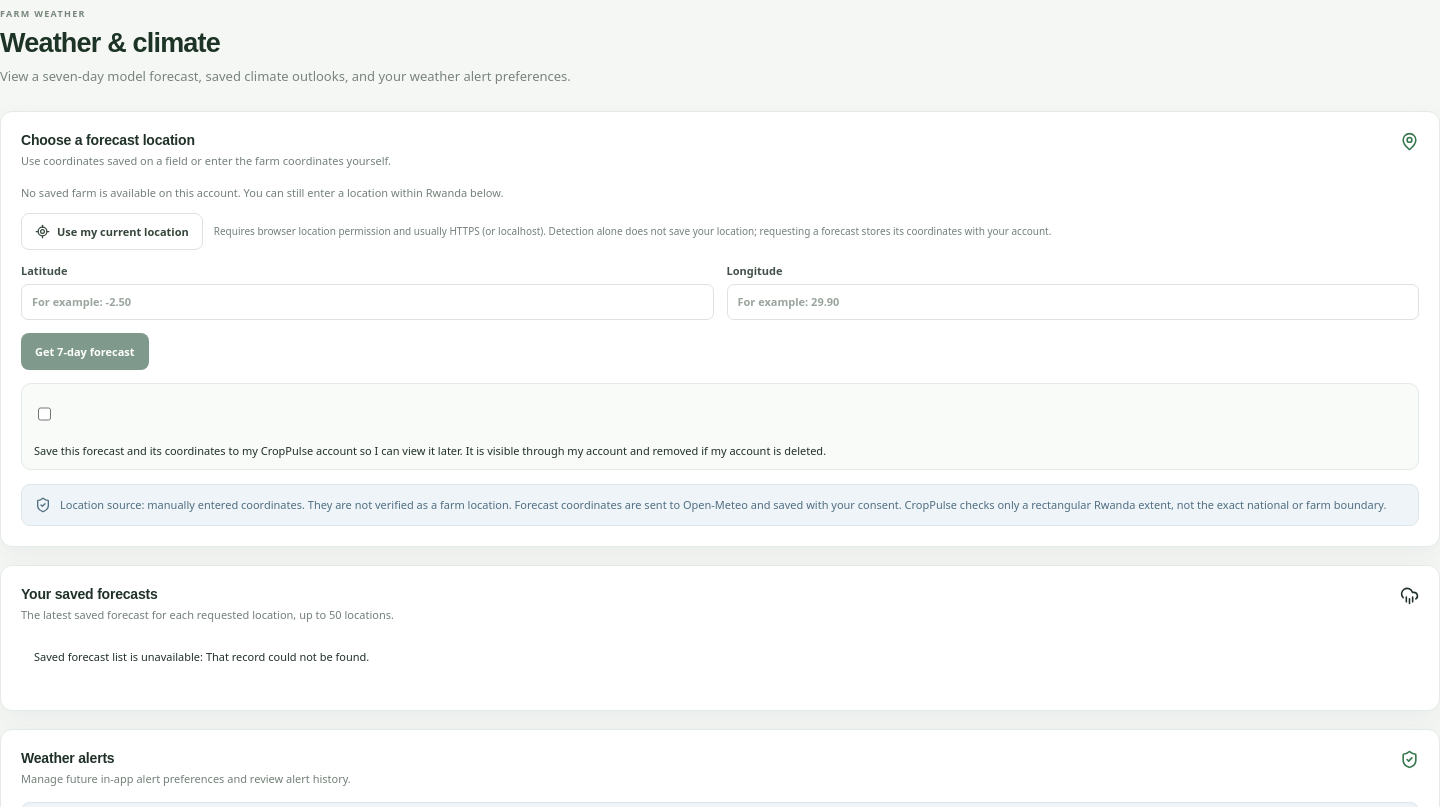
WeatherPage device location › shows a useful message when the user denies location permission
The width and height of the screenshot is (1440, 807).
Click the button "Use my current location": x=112, y=231 21,213 -> 203,250
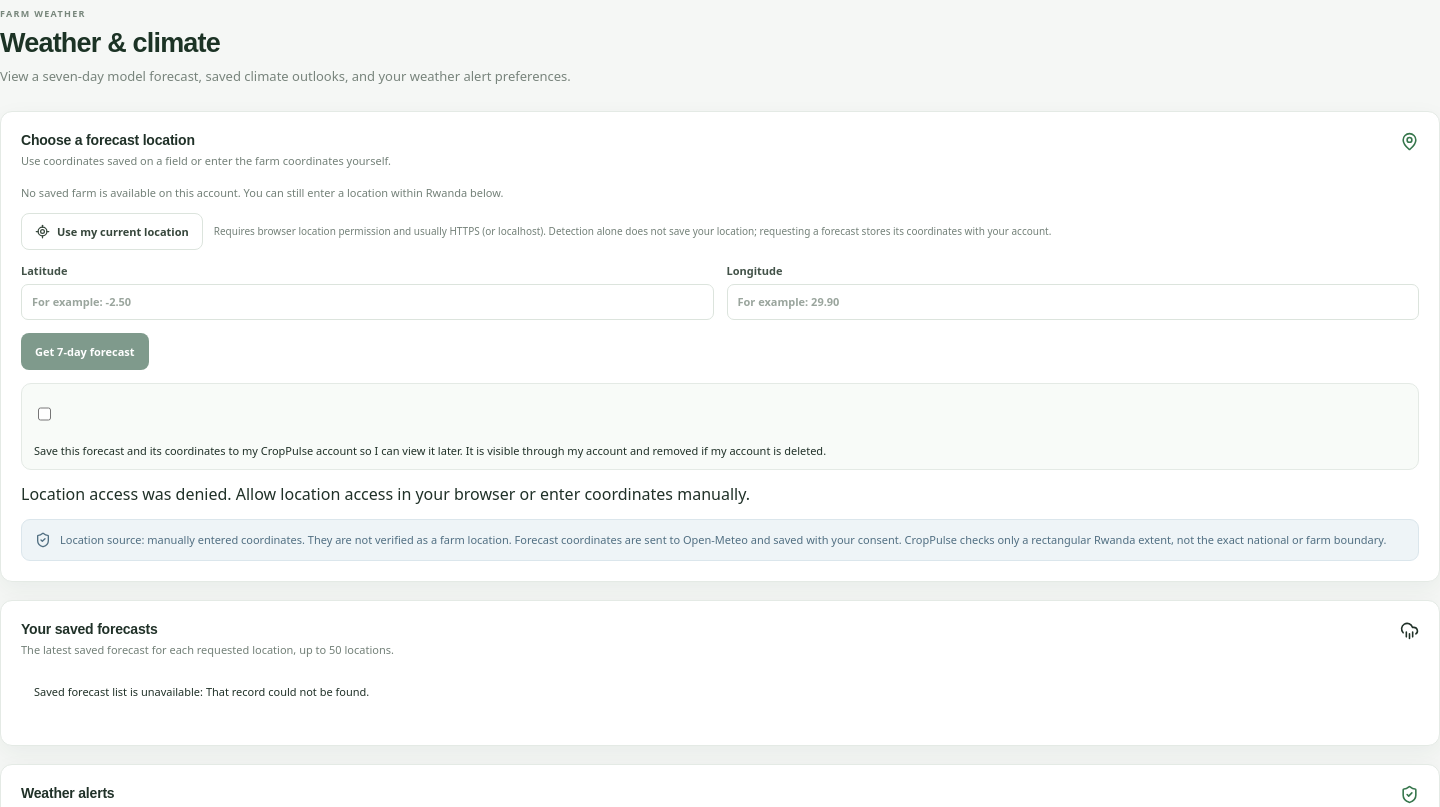
Now the 1st message shows "Location access was denied", box 21,483 -> 750,505
